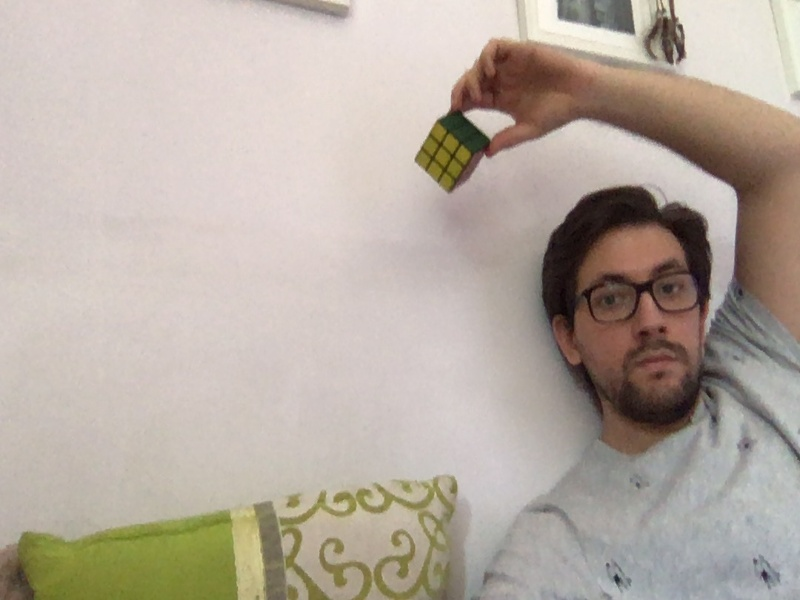rubik: (413, 111, 493, 194)
